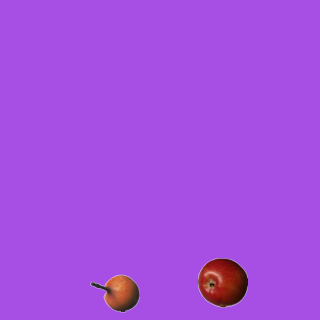Apple Braeburn: (197, 257, 247, 307)
Granadilla: (89, 268, 139, 318)
